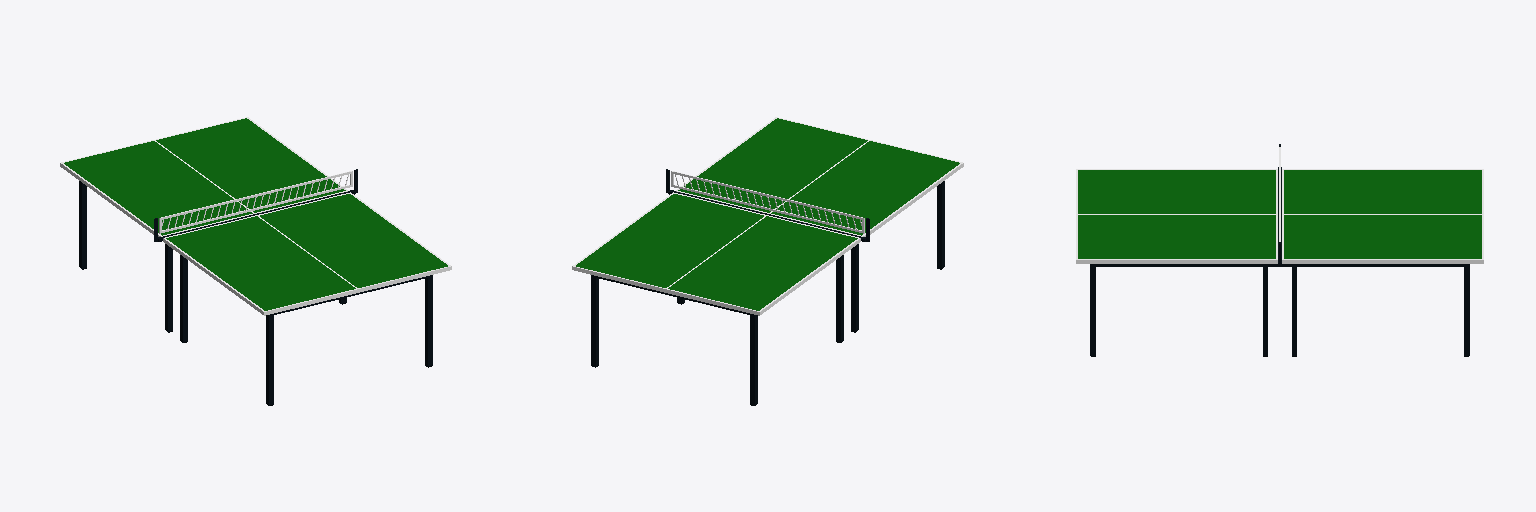
File: Table_Tennis_01.obj
3 renders of one model, left to right at view 1: azimuth 30°, elevation 25°; view 2: azimuth 150°, elevation 25°; view 3: azimuth 270°, elevation 25°, orthographic.
Visible parts, largest first — view 1: Table_Tennis_Table_Cube.032; view 2: Table_Tennis_Table_Cube.032; view 3: Table_Tennis_Table_Cube.032.
Part boxes in pixels (bbox=[...]): Table_Tennis_Table_Cube.032: bbox=[60, 117, 451, 405]; Table_Tennis_Table_Cube.032: bbox=[572, 117, 963, 405]; Table_Tennis_Table_Cube.032: bbox=[1076, 144, 1483, 356].
Size of the model in its own units: 17.52 by 10.13 by 30.32.